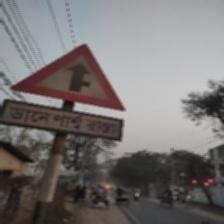Side-road-right: (7, 43, 128, 140)
